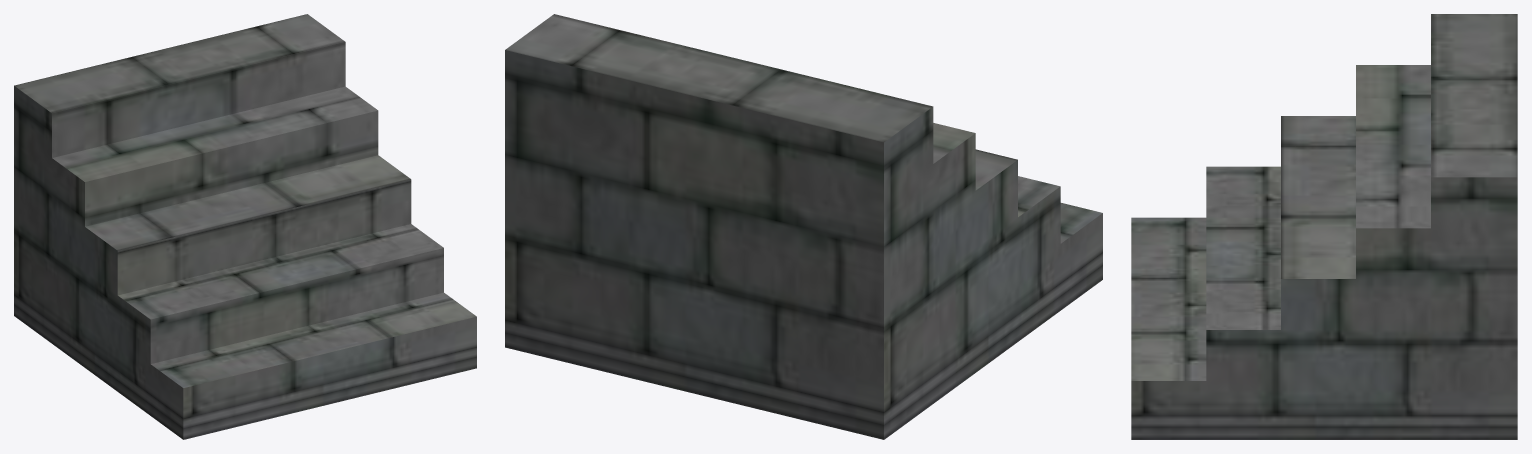
The model's file is sd_stairs_short_small_01.glb.
3 renders of one model, left to right at view 1: azimuth 30°, elevation 25°; view 2: azimuth 150°, elevation 25°; view 3: azimuth 270°, elevation 25°, orthographic. The views are drawn at different scales.
Parts seen in each view (by area): view 1: stairs_short_small_01; view 2: stairs_short_small_01; view 3: stairs_short_small_01.
Boxes of the visible parts, bbox=[...] form: stairs_short_small_01: bbox=[14, 14, 476, 439]; stairs_short_small_01: bbox=[505, 14, 1102, 439]; stairs_short_small_01: bbox=[1131, 14, 1517, 439].
Bounding box in the file's own units: 2 × 1.5 × 2.
Materials: 1 (1 with a texture image).
